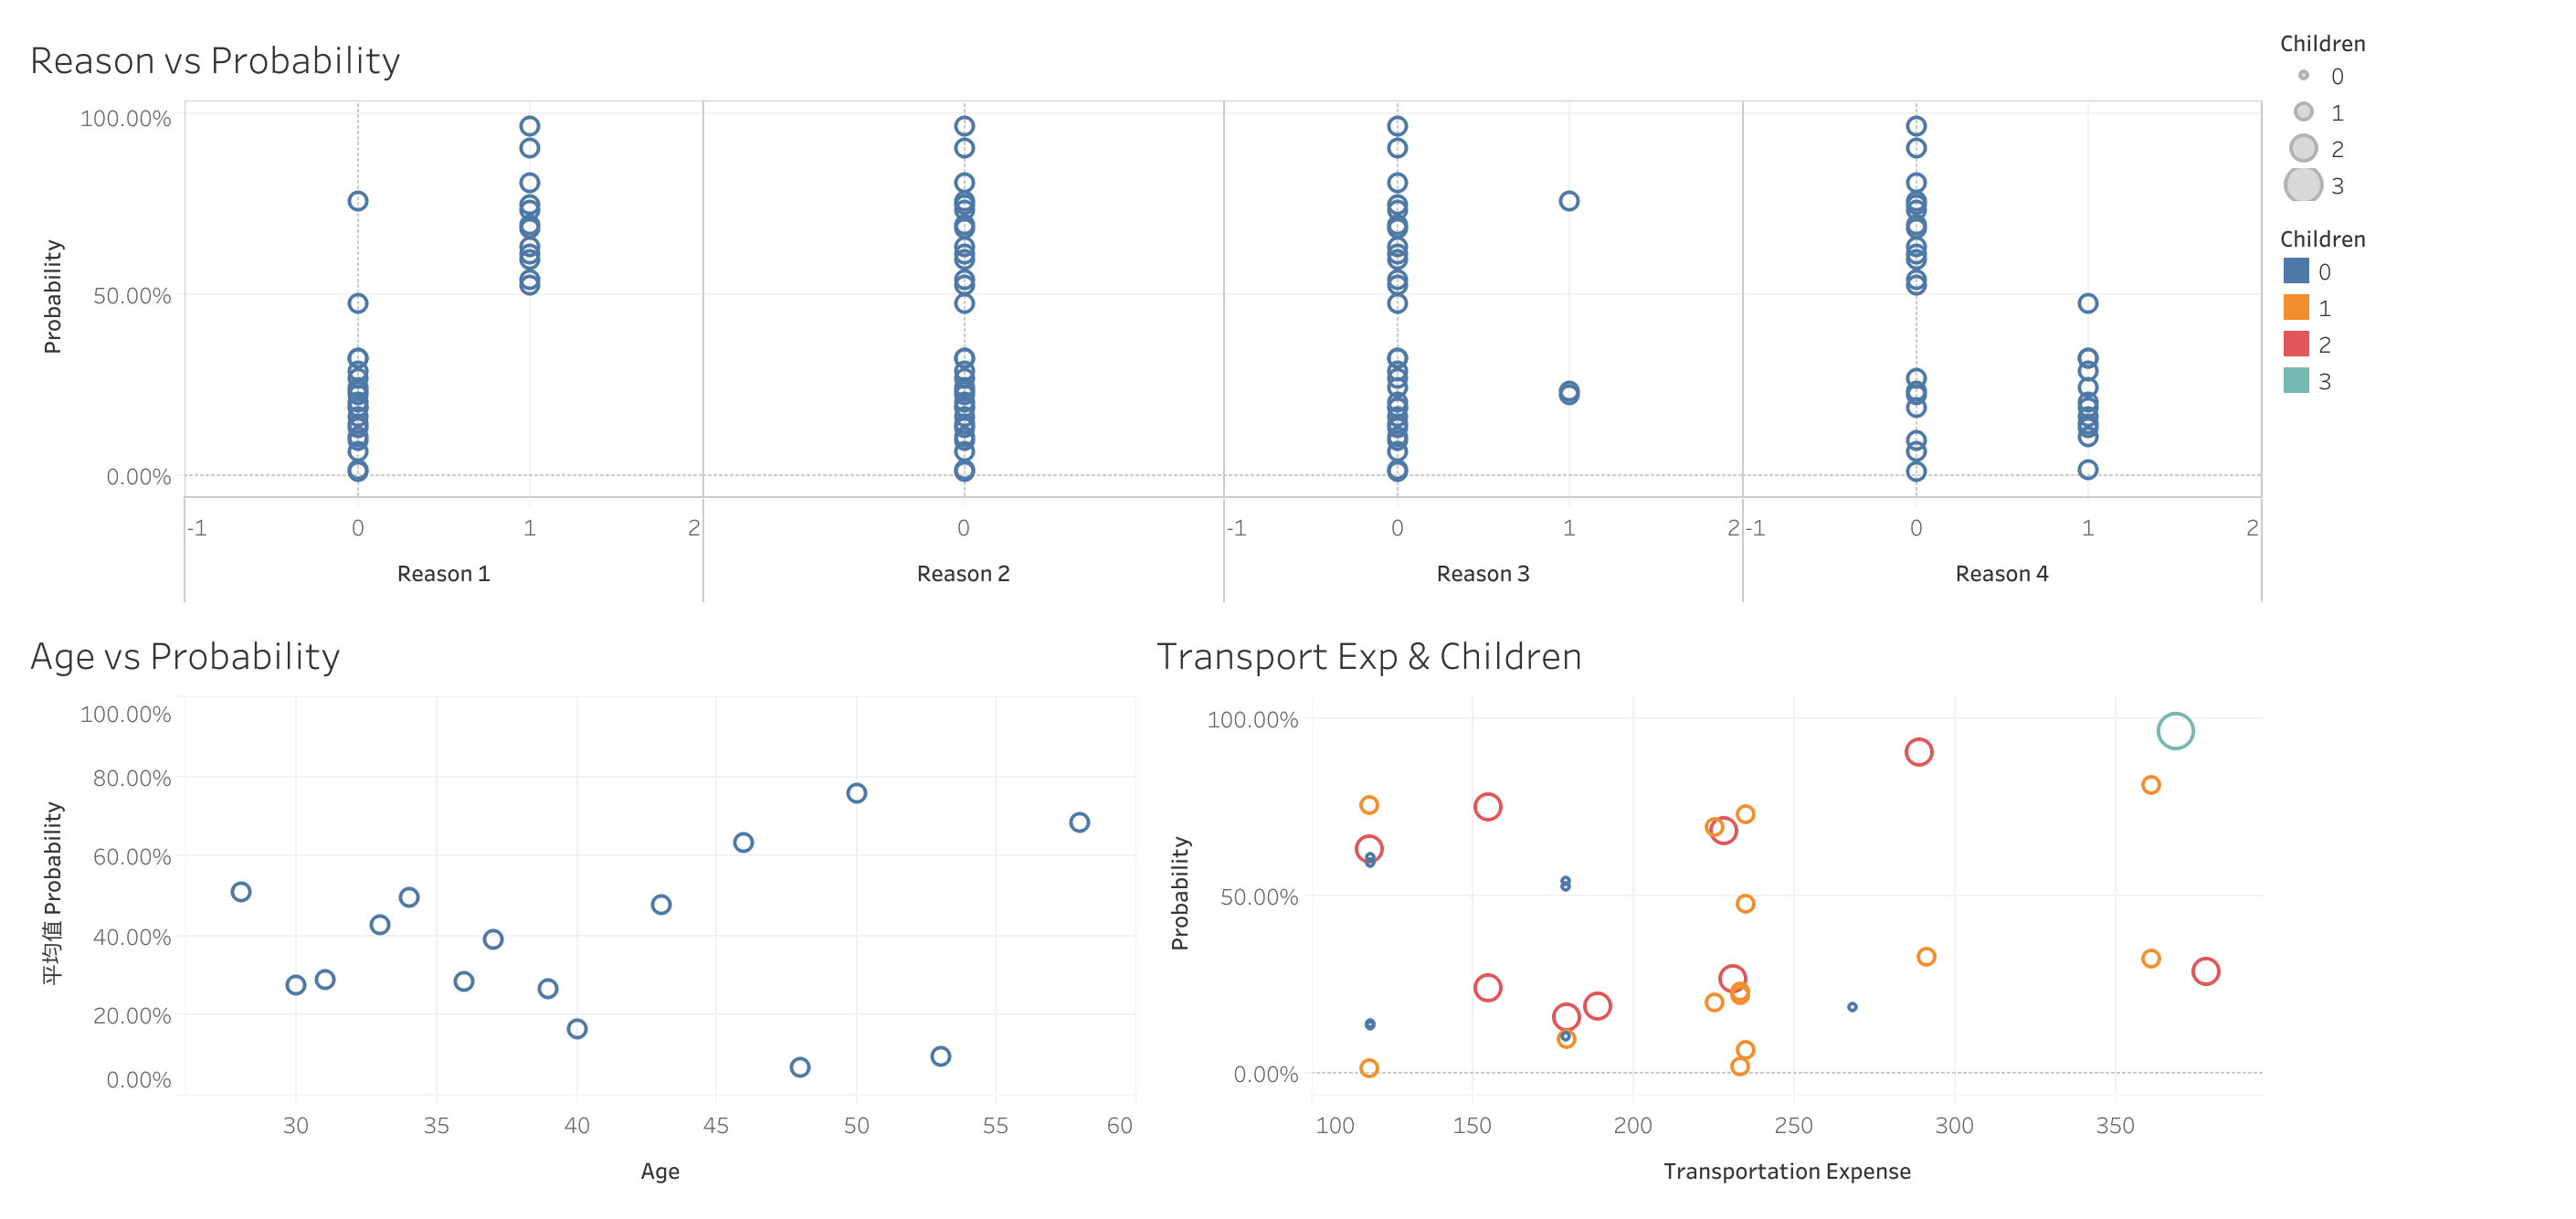

The dashboard page shown, as its layout file describes it:
{"tool":"tableau","page":{"name":"Absenteeism Probability","canvas":[1000,1000],"units":"permille","ordinal":0},"visuals":[{"type":"worksheet","title":"Reason vs Probability","mark":"Automatic","rows":["probability"],"cols":["reason_1","reason_2","reason_3","reason_4"],"box":[4.7,8.1,897,491.9]},{"type":"legend","title":"Transport Exp & Children","param":"[federated.1kdn6k01ndmvcu1aqbi1j10ka5xq].[none:children:ok]","box":[901.7,8.1,93.6,107.3]},{"type":"legend","title":"Transport Exp & Children","param":"[federated.1kdn6k01ndmvcu1aqbi1j10ka5xq].[none:children:ok]","box":[901.7,115.4,93.6,107.3]},{"type":"worksheet","title":"Age vs Probability","mark":"Shape","rows":["probability"],"cols":["age"],"box":[4.7,500,448.5,491.9]},{"type":"worksheet","title":"Transport Exp & Children","mark":"Shape","rows":["probability"],"cols":["transportation_expense"],"box":[453.2,500,448.5,491.9]}]}

Visuals, with their boxes on the dashboard's canvas, which has no fixed pixel size, in thousandths of its width and height (x1, y1, x2, y2). These are canvas units, not pixel positions in the 2576x1219 screenshot, which may show the page scaled, cropped or inside an application window:
"Reason vs Probability" worksheet: Rect(5, 8, 902, 500)
"Transport Exp & Children" legend: Rect(902, 8, 995, 115)
"Transport Exp & Children" legend: Rect(902, 115, 995, 223)
"Age vs Probability" worksheet (Shape marks): Rect(5, 500, 453, 992)
"Transport Exp & Children" worksheet (Shape marks): Rect(453, 500, 902, 992)
